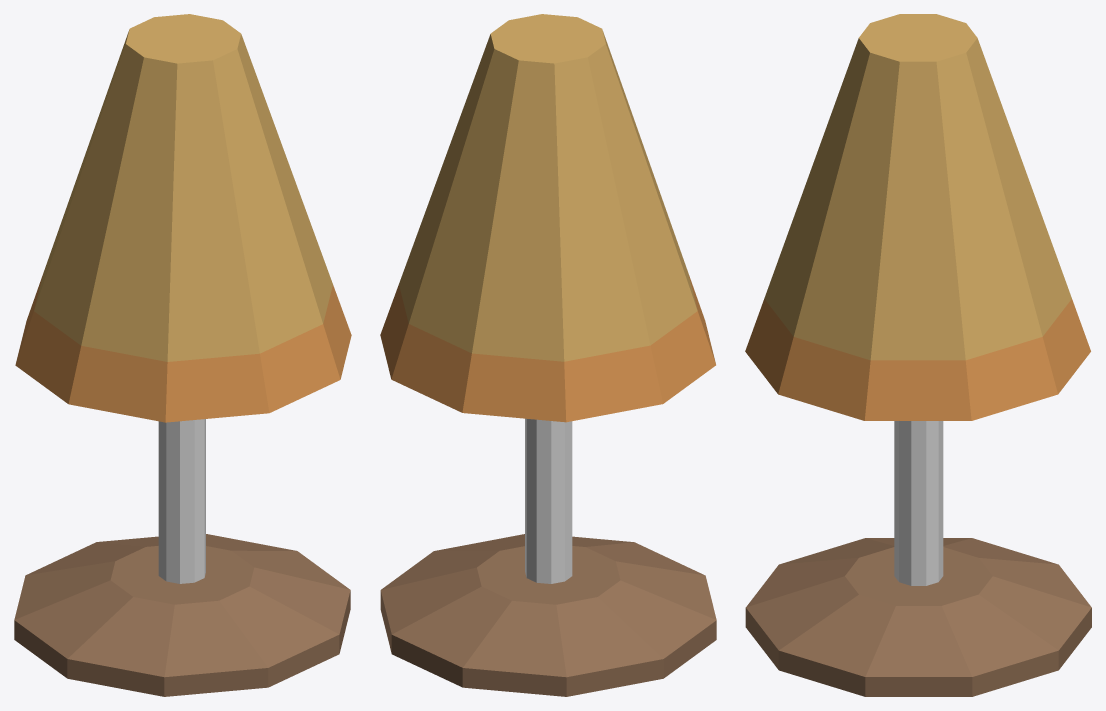
The model's file is small lamp.fbx.
The picture shows the model from 3 angles, left to right: view 1: azimuth 30°, elevation 25°; view 2: azimuth 150°, elevation 25°; view 3: azimuth 270°, elevation 25°; orthographic projection.
Visible parts, largest first — view 1: Lamp; view 2: Lamp; view 3: Lamp.
Part boxes in pixels (<box>): Lamp: <box>14,14,351,696</box>; Lamp: <box>380,14,716,696</box>; Lamp: <box>745,14,1091,696</box>.
Bounding box in the file's own units: 95.36 × 188 × 100.
